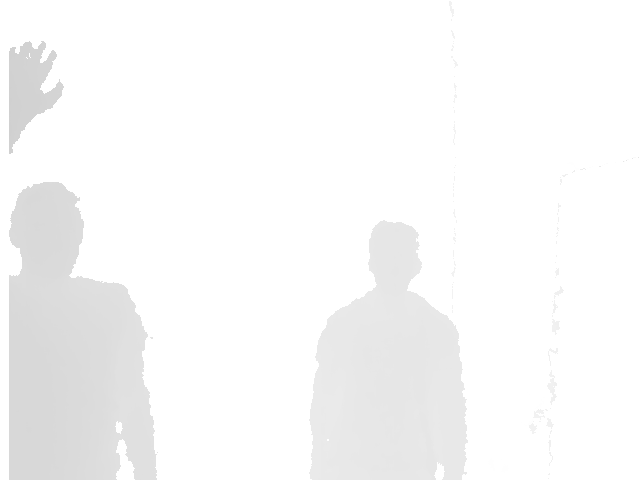hand: (7, 39, 63, 158)
head: (9, 180, 84, 278), (368, 220, 421, 294)
person: (8, 39, 159, 480), (307, 221, 470, 479)
